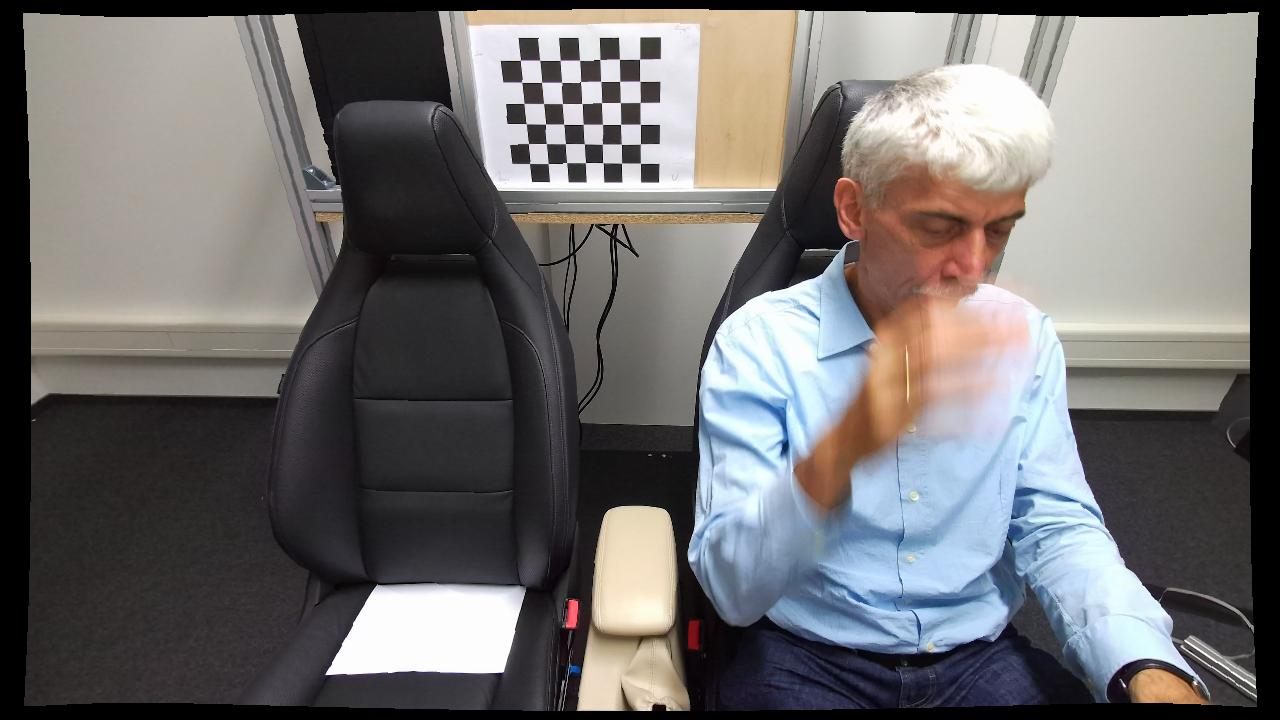Distracted: (687, 60, 1102, 708)
